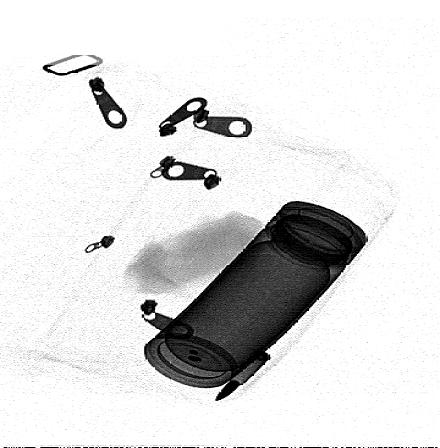Bullet: (213, 349, 274, 403)
